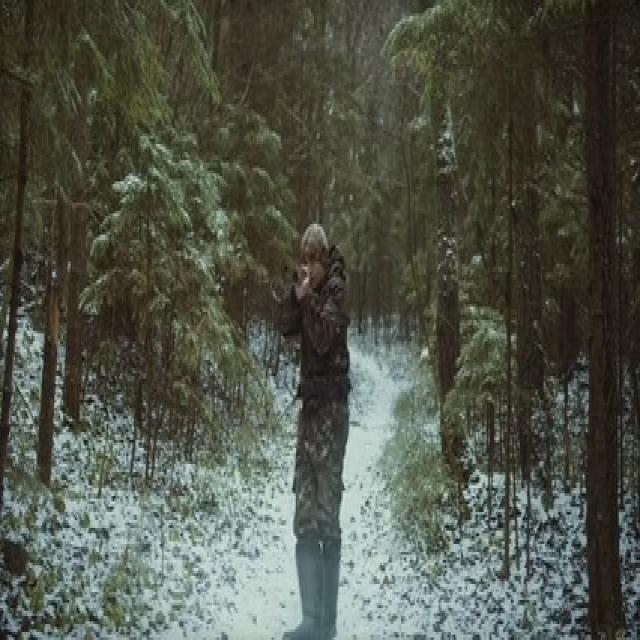Gun_Holder: (272, 255, 320, 292)
Person: (288, 224, 350, 638)
